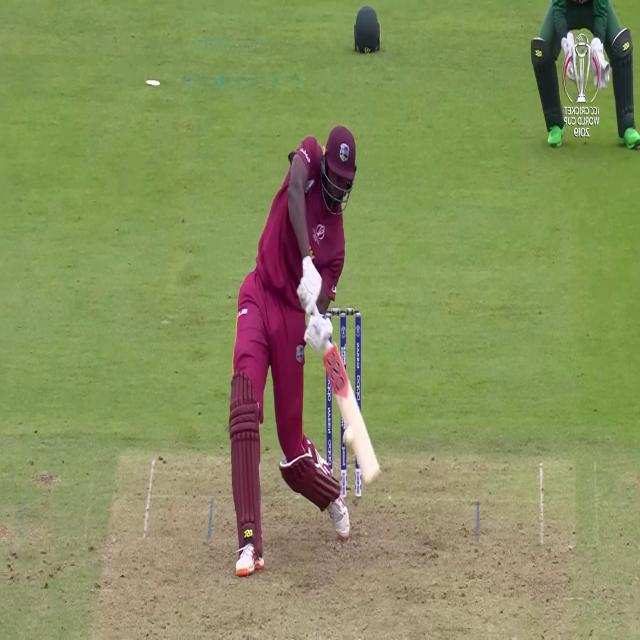ball: (341, 422, 356, 454)
